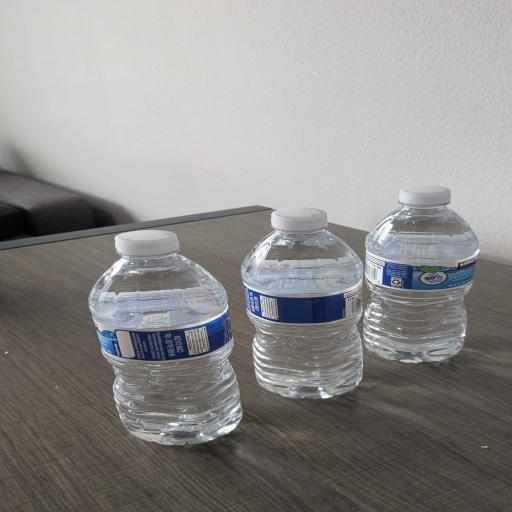waterbottle: (89, 231, 242, 444), (242, 208, 363, 398), (364, 187, 478, 362)
